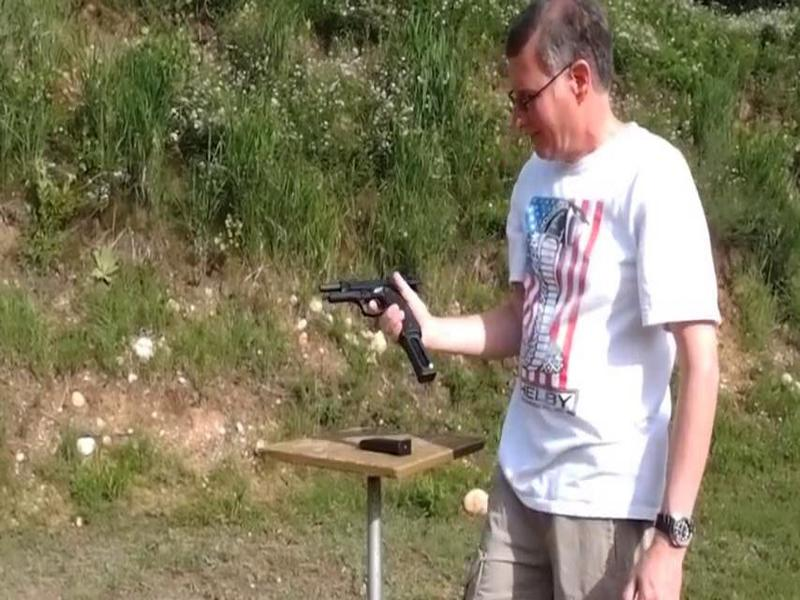Pistola: (304, 262, 434, 346)
